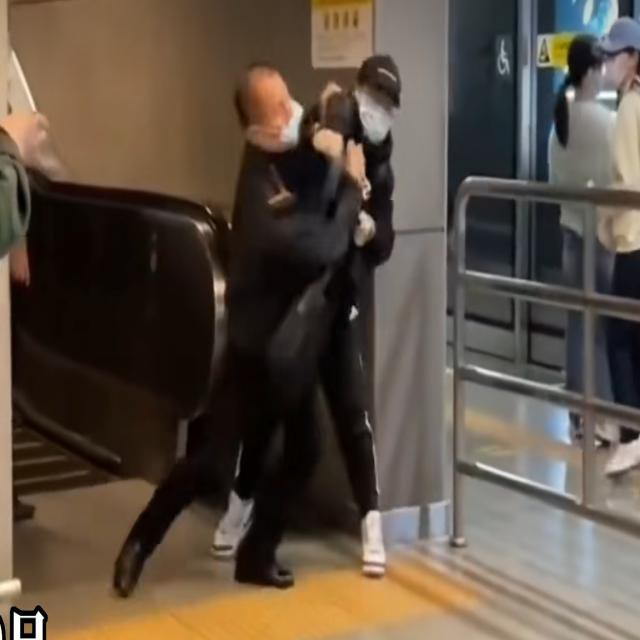fight: (220, 47, 412, 329)
nofight: (541, 28, 617, 458), (593, 16, 640, 483)
